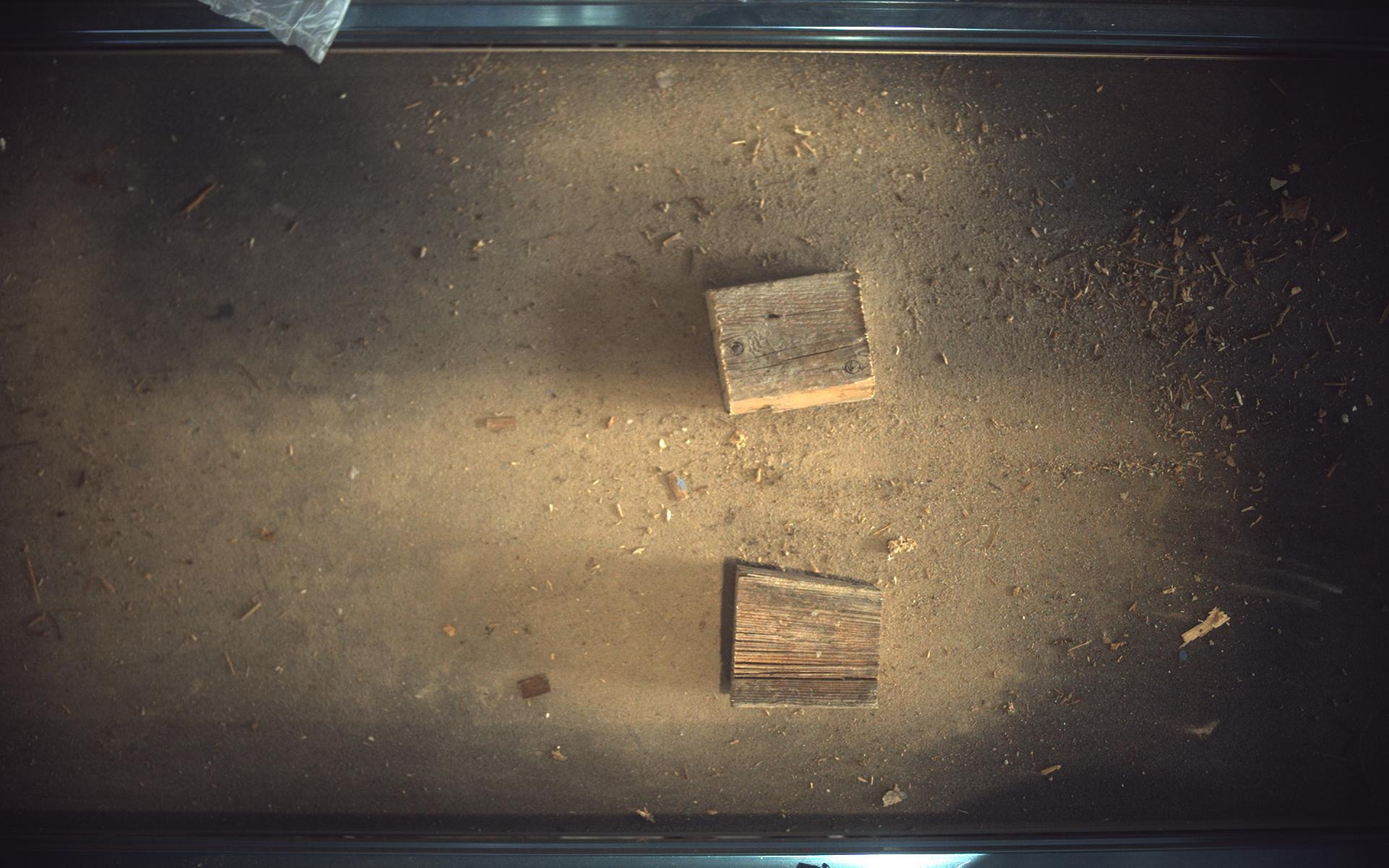wood: (706, 271, 878, 414), (723, 561, 885, 708)
